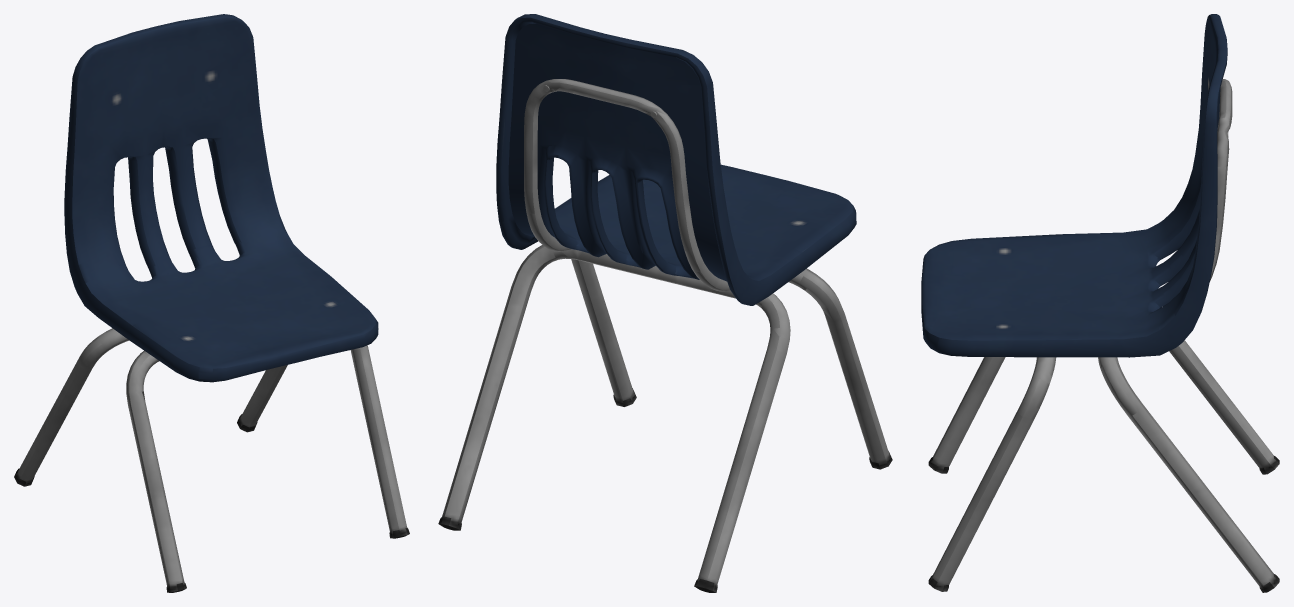
File: chair_school.glb
3 views of the same model, side by side, from view 1: azimuth 30°, elevation 25°; view 2: azimuth 150°, elevation 25°; view 3: azimuth 270°, elevation 25° (orthographic). The views are drawn at different scales.
Visible parts, largest first — view 1: mesh; view 2: mesh; view 3: mesh.
Boxes of the visible parts, x1,y1,x2,y2 form: mesh: (14, 14, 409, 592); mesh: (438, 14, 892, 592); mesh: (921, 14, 1279, 592).
Size of the model in its own units: 0.5659 by 1.01 by 0.6753.
1 material, 1 textured.
